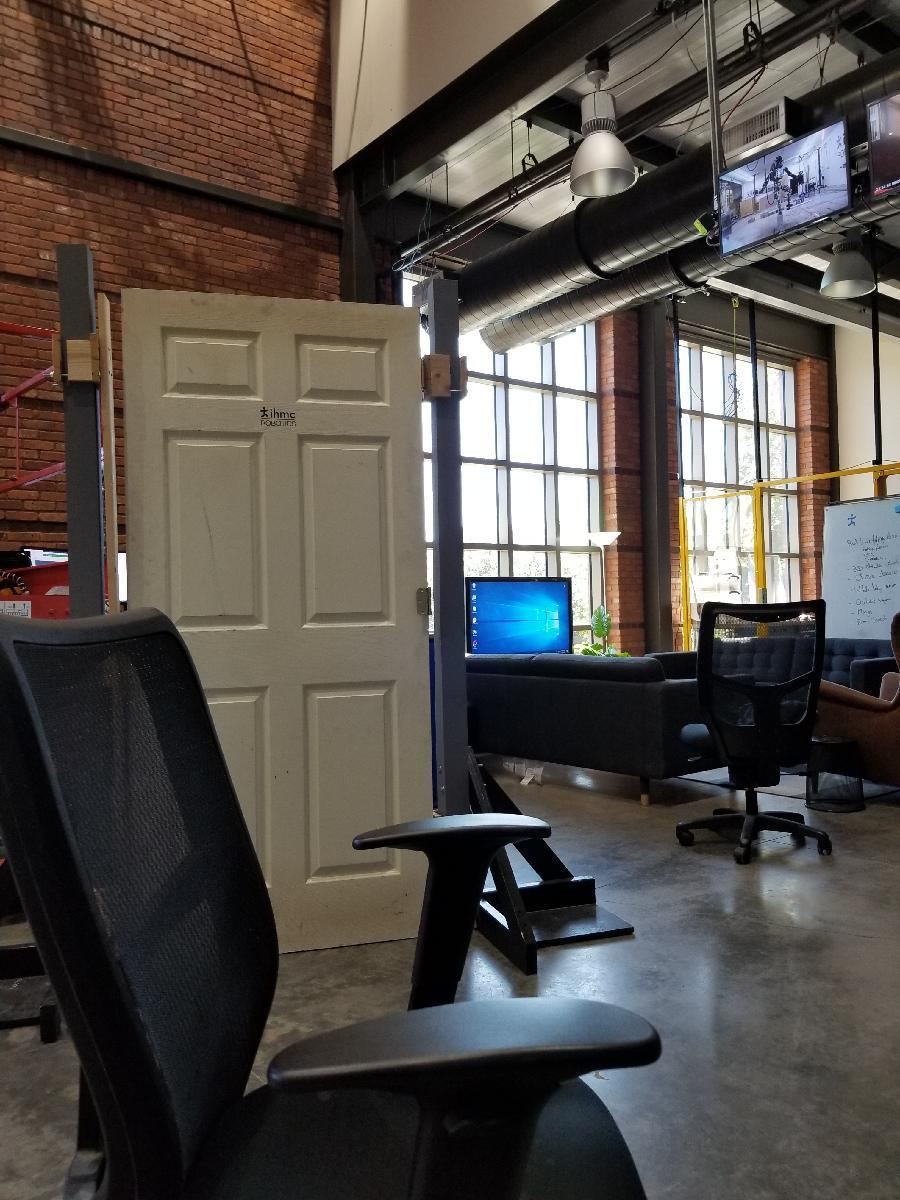door: (119, 290, 428, 950)
